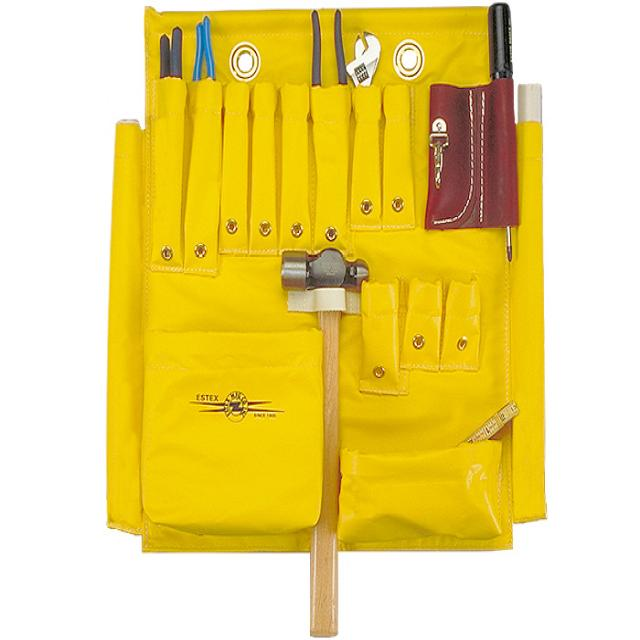hammer: (278, 236, 357, 640)
